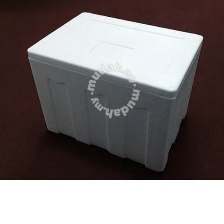foam_box: (21, 8, 206, 174)
